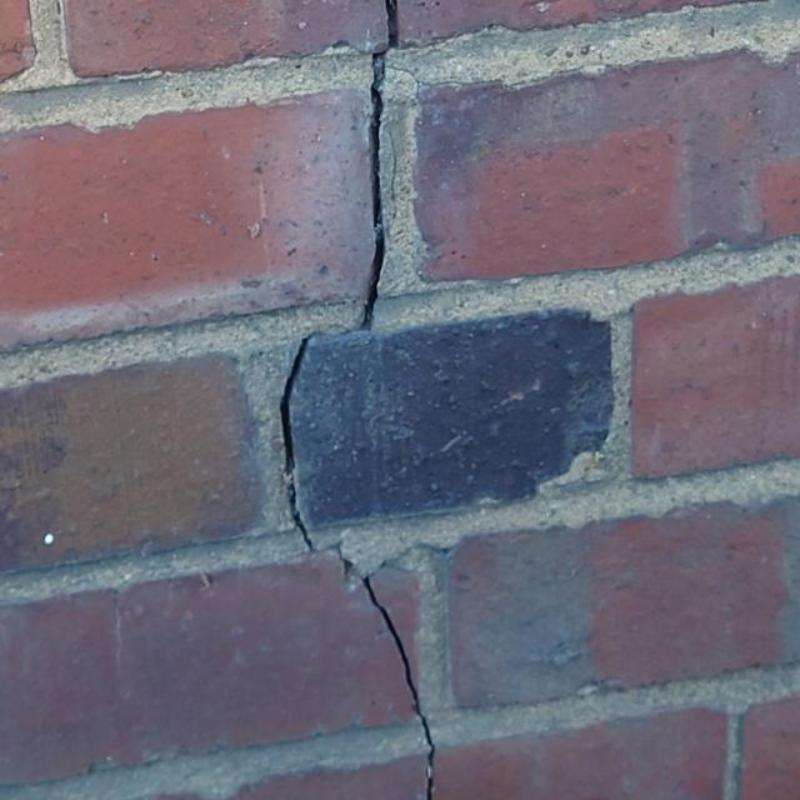pothole: (343, 558, 434, 799), (361, 52, 385, 330), (281, 338, 312, 549), (368, 541, 461, 576), (385, 65, 501, 86), (384, 126, 398, 241), (314, 541, 344, 559), (387, 0, 398, 48)
